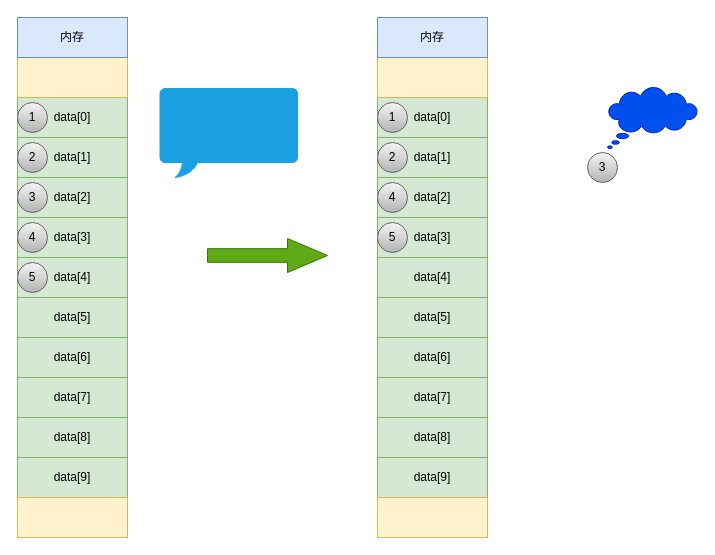
The diagram is 715 pixels wide and 555 high, and some of its shapes have lost their labels. The shapes that lost their labels are listed below. From the top down, each one's centre as x and y in pixels, then its label:
At [228,133]: "删除第3个元素，将第三个往后的所偶有元素向前移动一位".
At [652,117]: "溜了溜了".
